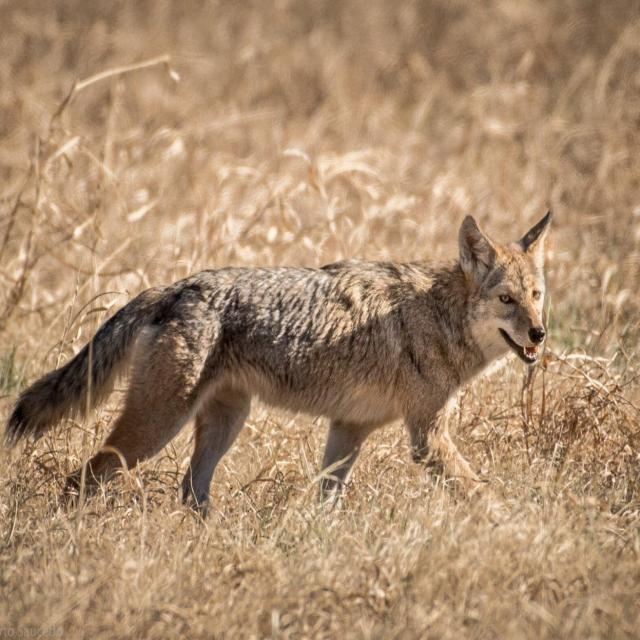Coyote: (11, 204, 566, 511)
